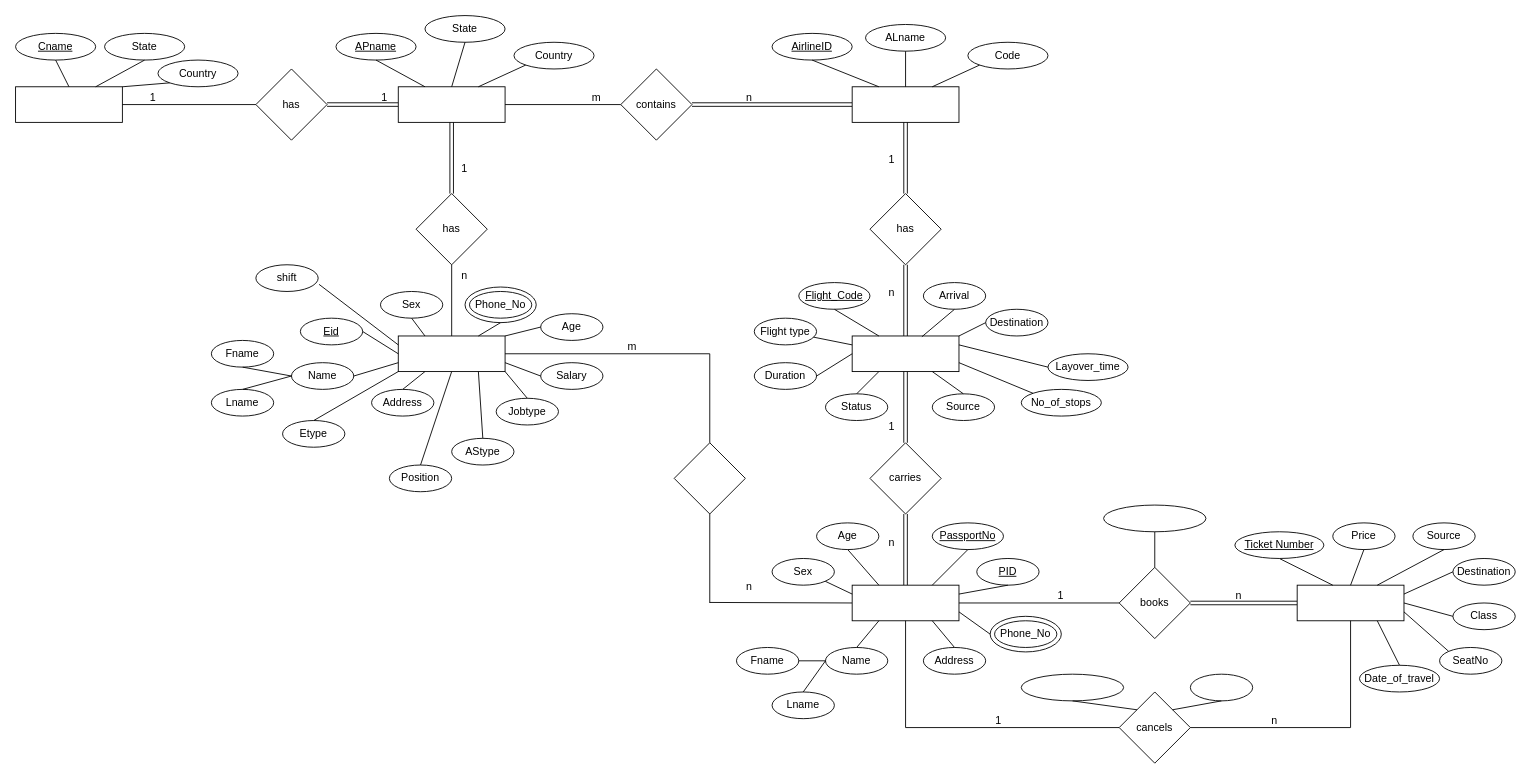
The diagram is 1531 pixels wide and 779 high, and some of its shapes have lost their labels. The centre of each missing label's shape, as x and y in pixels:
"AIRLINE" belongs at point (905, 104).
"AIRPORT" belongs at point (451, 104).
"CITY" belongs at point (68, 104).
"date of cancellation" belongs at point (1072, 687).
"Date_of_booking" belongs at point (1154, 518).
"EMPLOYEE" belongs at point (451, 353).
"FLIGHT" belongs at point (905, 353).
"PASSENGER" belongs at point (905, 602).
"serves" belongs at point (709, 478).
"surcharge" belongs at point (1221, 687).
"TICKET" belongs at point (1350, 602).
